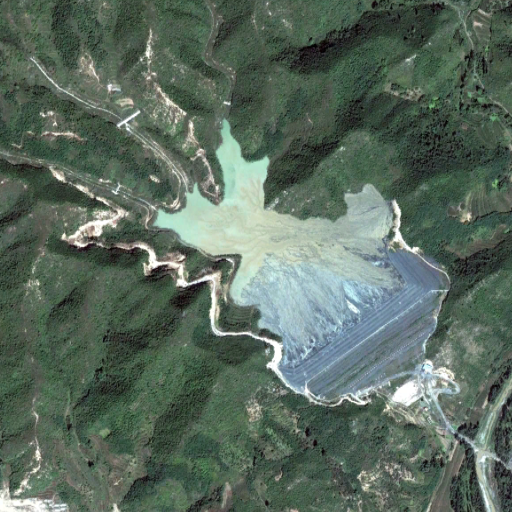tp: (150, 118, 447, 404)
